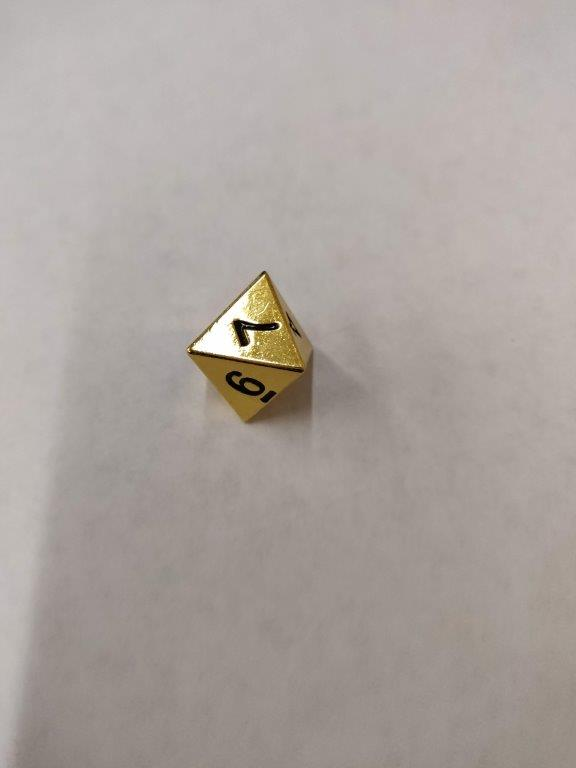d8-7: (185, 268, 312, 426)
